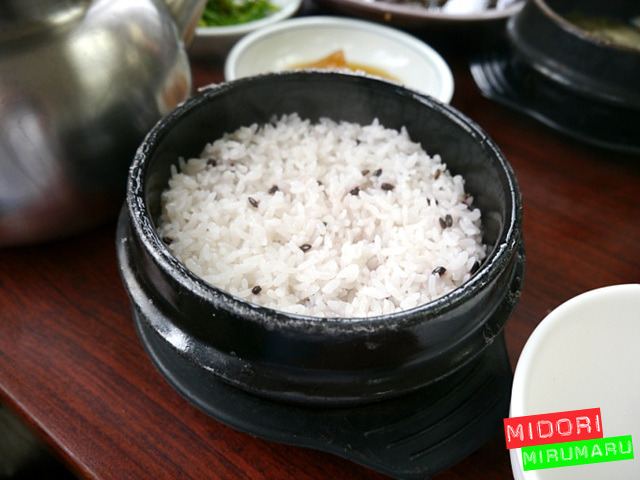ssalbab: (153, 110, 494, 322)
